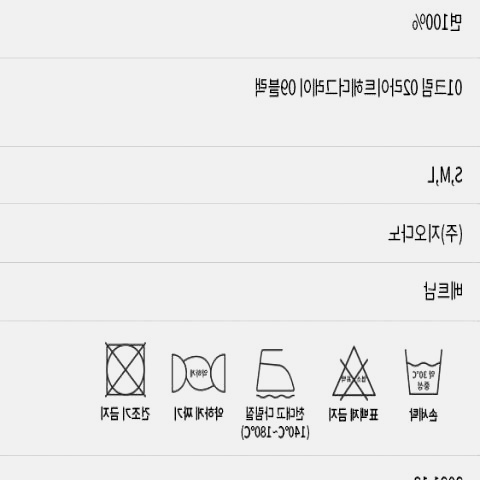30C: (397, 342, 447, 397)
DN_tumble_dry: (97, 336, 153, 400)
iron: (164, 347, 232, 394), (249, 340, 301, 400)
non_chlorine_bleach: (324, 340, 379, 402)
